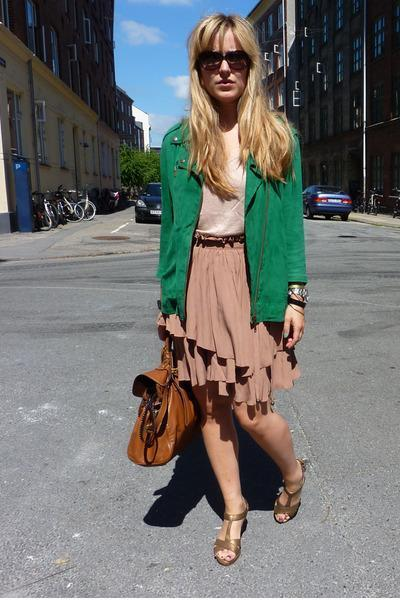bag: (127, 352, 203, 466)
jacket: (154, 118, 314, 323)
shirt: (198, 124, 245, 235)
shoe: (213, 480, 301, 565)
skirt: (158, 228, 300, 419)
sunglass: (193, 40, 252, 83)
